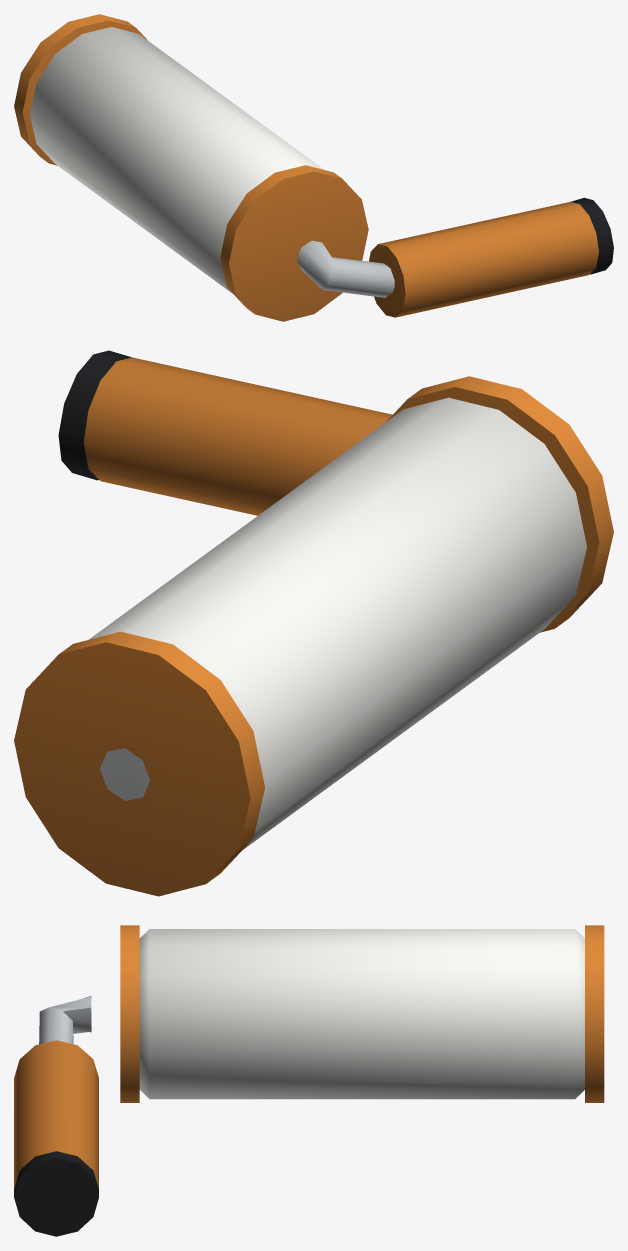
The model's file is SM_PaintRoller_01.glb.
The picture shows the model from 3 angles, top to bottom: view 1: azimuth 30°, elevation 25°; view 2: azimuth 150°, elevation 25°; view 3: azimuth 270°, elevation 25°; orthographic projection. The views are drawn at different scales.
Visible parts, largest first — view 1: SM_PaintRoller_01; view 2: SM_PaintRoller_01; view 3: SM_PaintRoller_01.
Boxes of the visible parts, x1,y1,x2,y2 form: SM_PaintRoller_01: (14, 14, 613, 321); SM_PaintRoller_01: (14, 350, 613, 896); SM_PaintRoller_01: (14, 925, 604, 1236).
Bounding box in the file's own units: 0.2281 × 0.0916 × 0.31.
Materials: 1 (1 with a texture image).
